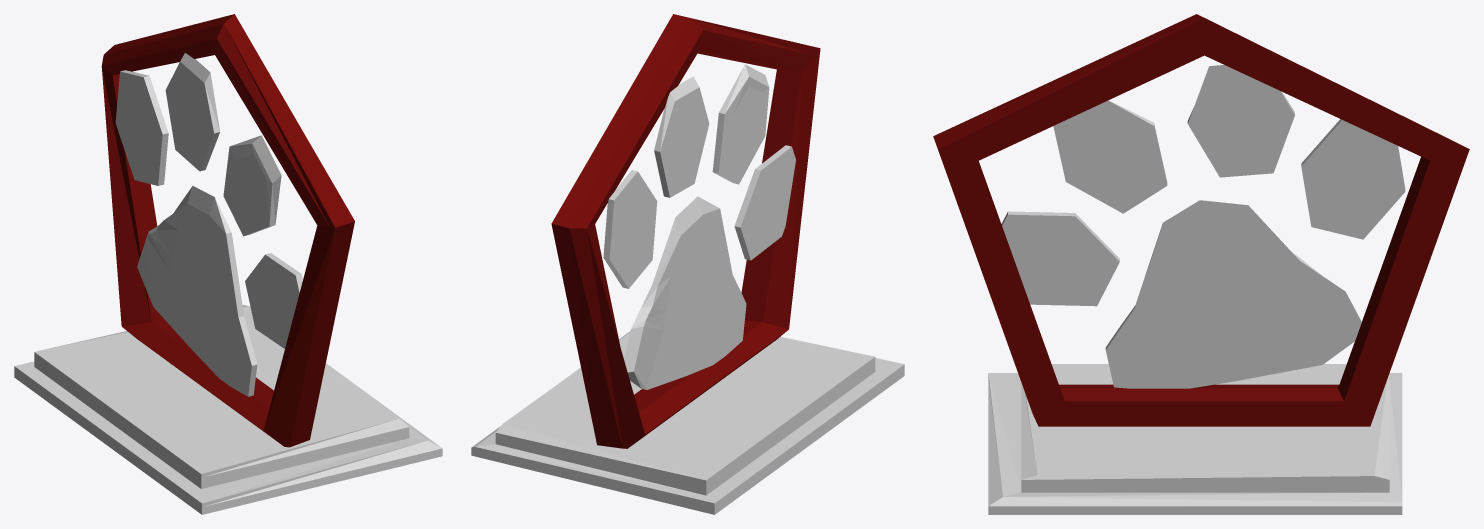
File: silverPawred.FBX
The picture shows the model from 3 angles, left to right: view 1: azimuth 30°, elevation 25°; view 2: azimuth 150°, elevation 25°; view 3: azimuth 270°, elevation 25°; orthographic projection. The views are drawn at different scales.
Parts seen in each view (by area): view 1: Box224; view 2: Box224; view 3: Box224.
Part boxes in pixels (<box>): Box224: <box>14,14,442,514</box>; Box224: <box>471,14,904,514</box>; Box224: <box>933,14,1469,514</box>.
Size of the model in its own units: 7.97 by 12.58 by 13.97.
